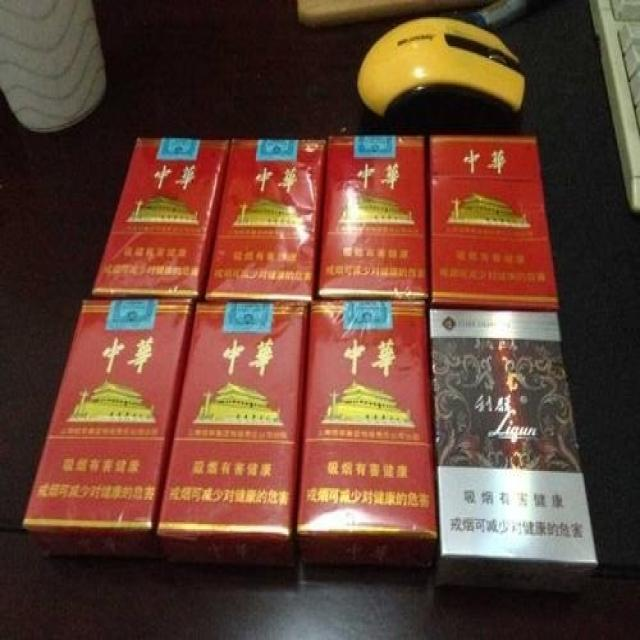box: (430, 309, 598, 594), (23, 299, 196, 561), (155, 304, 308, 570), (294, 300, 439, 570), (429, 135, 559, 309), (92, 138, 230, 297), (204, 138, 326, 302), (317, 135, 430, 300)
